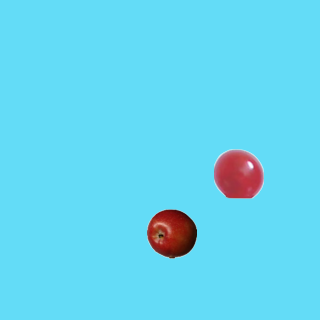Apple Braeburn: (146, 208, 196, 258)
Redcurrant: (213, 148, 263, 198)
